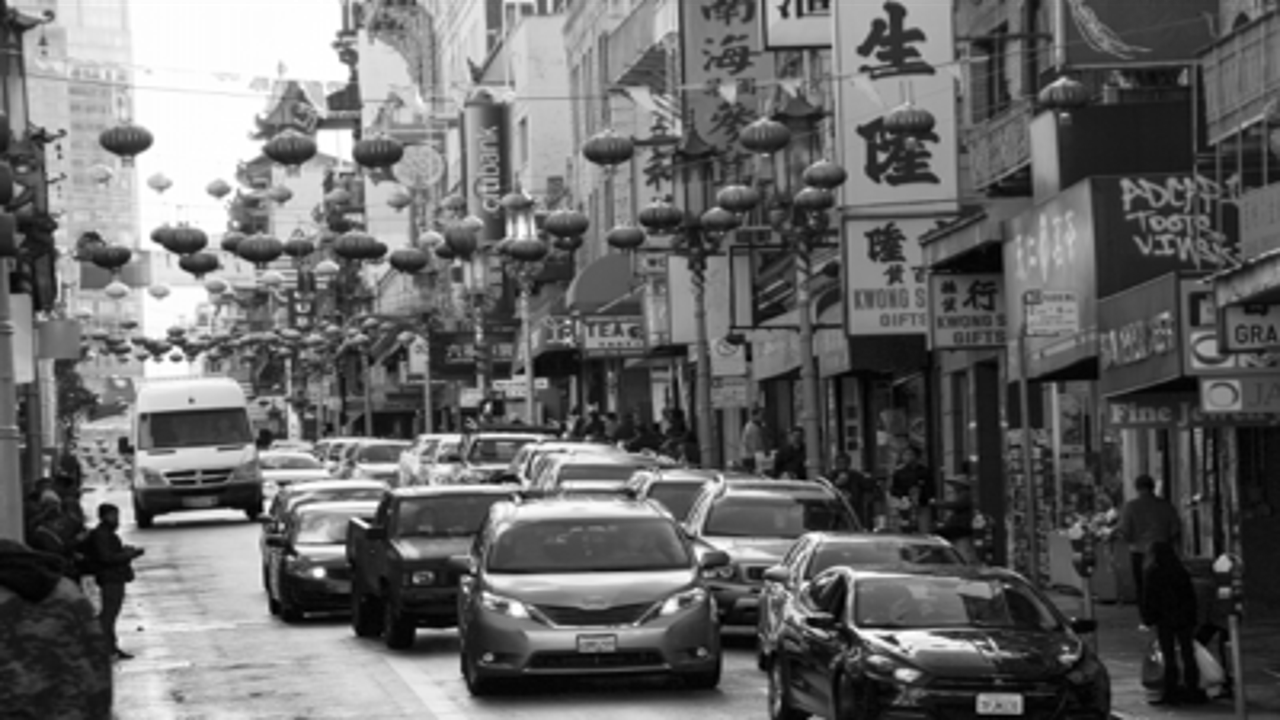license: (972, 688, 1027, 716), (574, 631, 621, 655), (180, 493, 221, 508)
